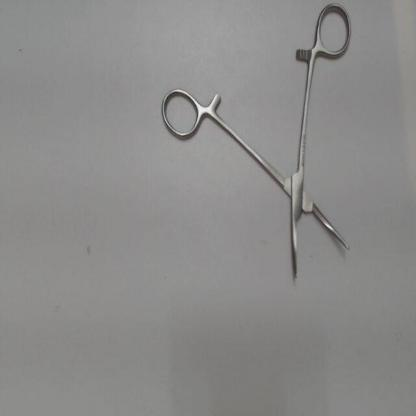Crile Artery Forceps: (159, 0, 355, 285)
